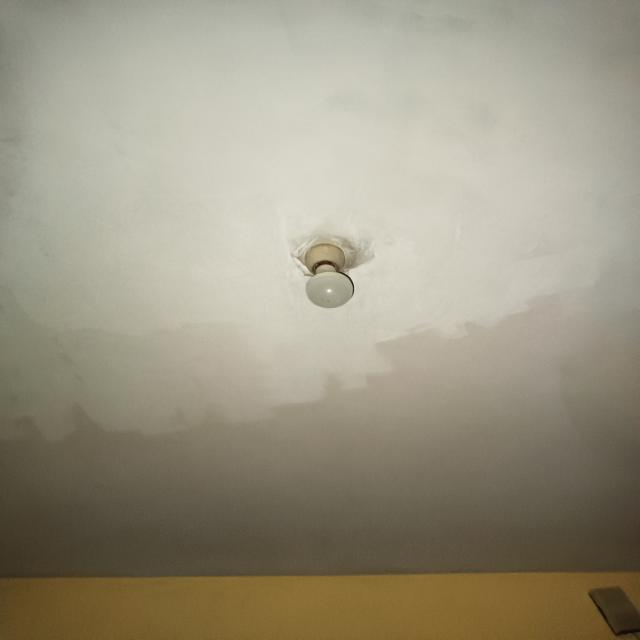bulb_off: (301, 241, 358, 311)
